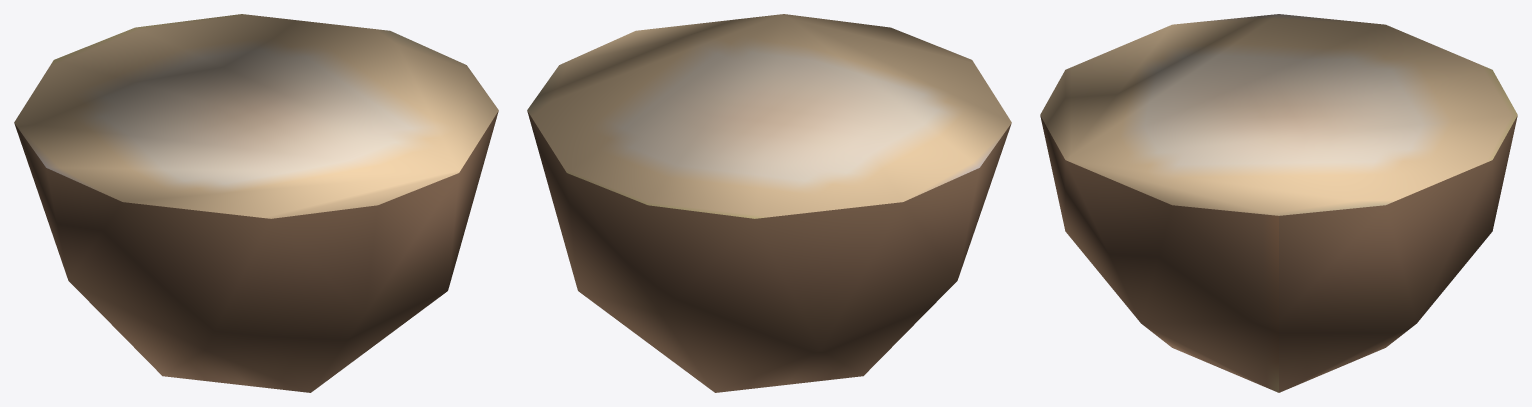
File: coconut_half.fbx
3 views of the same model, side by side, from view 1: azimuth 30°, elevation 25°; view 2: azimuth 150°, elevation 25°; view 3: azimuth 270°, elevation 25° (orthographic).
Visible parts, largest first — view 1: itm_coconut_half; view 2: itm_coconut_half; view 3: itm_coconut_half.
Part boxes in pixels (x1,y1,x2,y2): itm_coconut_half: (14, 14, 498, 392); itm_coconut_half: (527, 14, 1011, 392); itm_coconut_half: (1040, 14, 1517, 392).
Bounding box in the file's own units: 102 × 61.47 × 102.
Materials: 1 (1 with a texture image).
